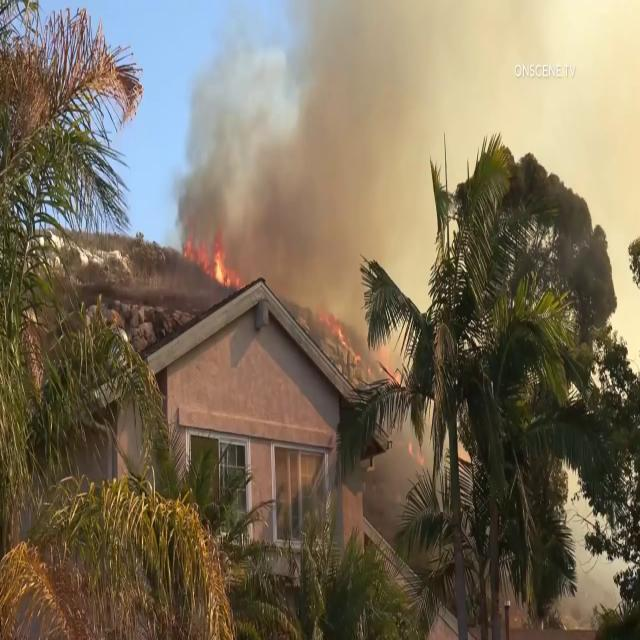Fire: (210, 244, 230, 288)
Smoke: (170, 0, 442, 306)
